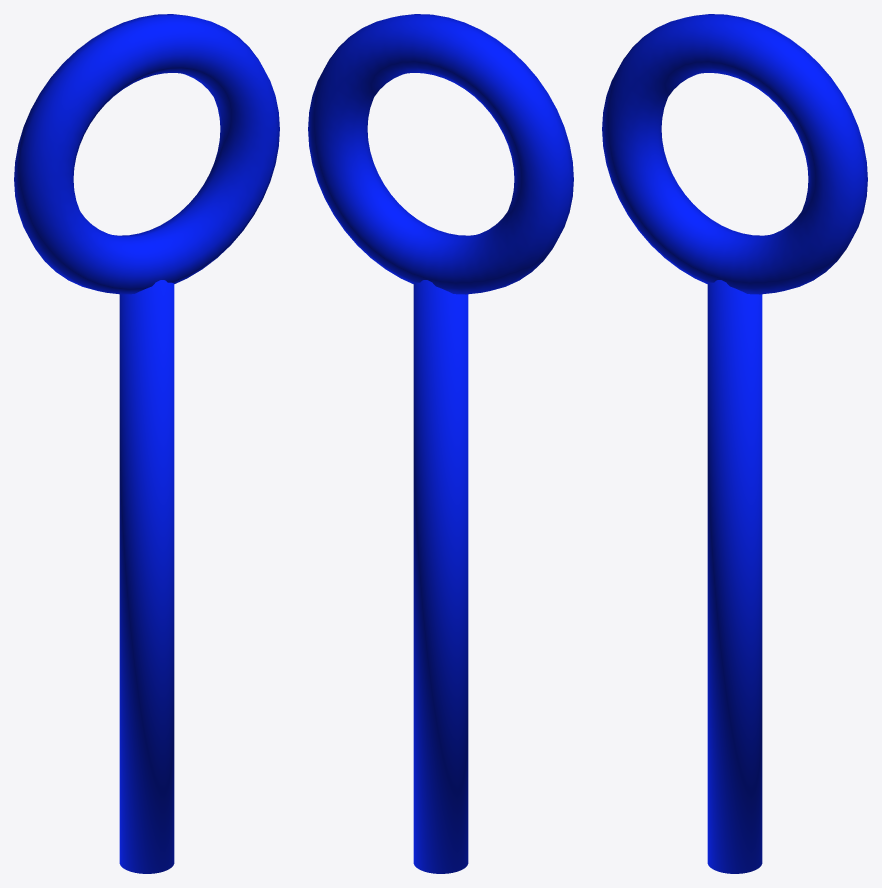
File: BubbleStick.fbx
The picture shows the model from 3 angles, left to right: view 1: azimuth 30°, elevation 25°; view 2: azimuth 150°, elevation 25°; view 3: azimuth 330°, elevation 25°; orthographic projection.
Parts seen in each view (by area): view 1: Torus; view 2: Torus; view 3: Torus.
Part boxes in pixels (x1,y1,x2,y2): Torus: [14, 14, 279, 873]; Torus: [308, 14, 573, 873]; Torus: [602, 14, 867, 873].
Bounding box in the file's own units: 487 × 1522 × 97.48.
